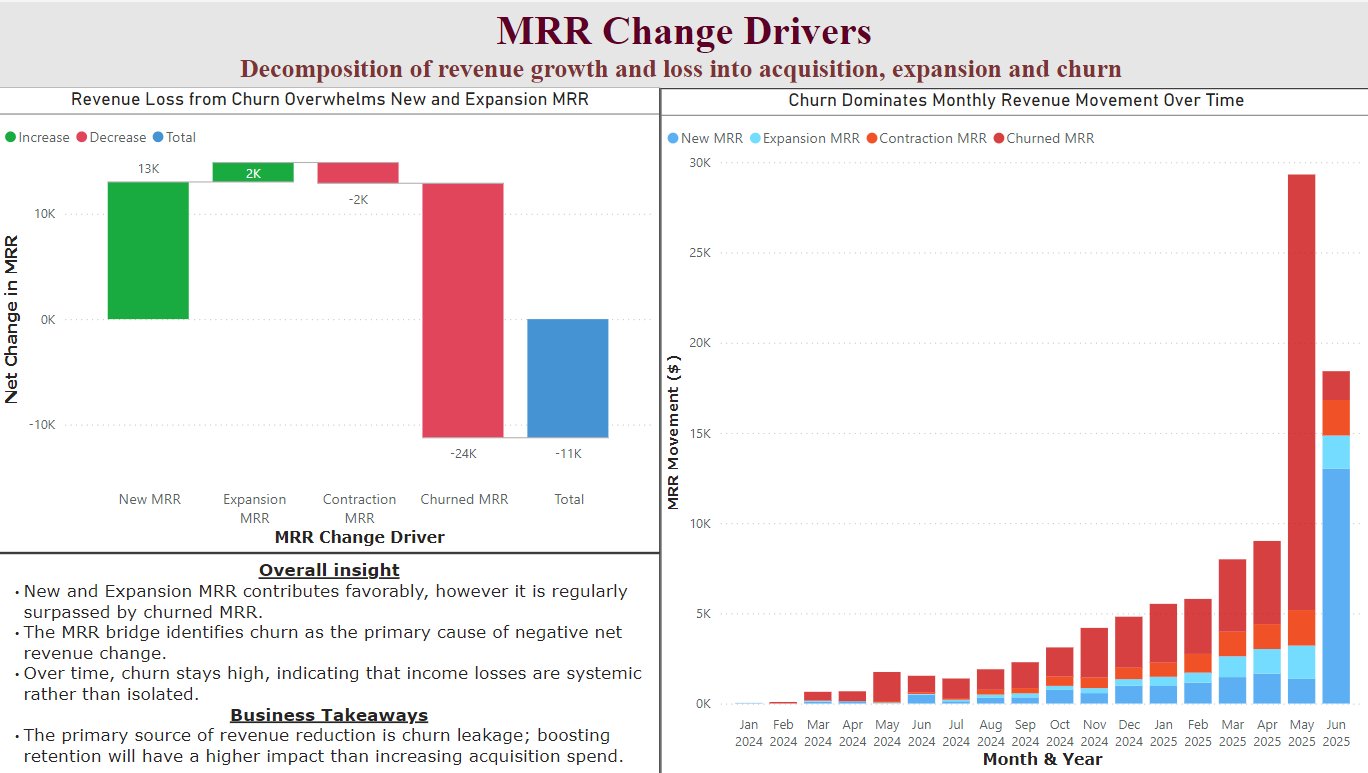

The page's visual inventory and layout, read from the dashboard file:
{"tool":"powerbi","page":{"name":"REVENUE DRIVERS","canvas":[1280,720],"ordinal":1},"visuals":[{"type":"waterfallChart","title":"Revenue Loss from Churn Overwhelms New and Expansion MRR","fields":{"Category":["MRR Movement Types.mrr_movement_type"],"Y":["Date.MRR Change"]},"box":[0,79.5,617.5,434.1],"z":0},{"type":"columnChart","title":"Churn Dominates Monthly Revenue Movement Over Time","fields":{"Category":["Date.Month Year"],"Y":["Date.New MRR","Date.Expansion MRR","Date.Contraction MRR","Date.Churned MRR"]},"box":[617.5,80,662.5,640],"z":1000},{"type":"textbox","box":[0,0,1280,80],"z":2000},{"type":"textbox","box":[0,513.6,617.5,206.7],"z":3000}]}

Visuals, with their boxes in screenshot pixels (x1, y1, x2, y2), scaled from the page's 1280x720 canvas onto the 1368x773 screenshot:
"Revenue Loss from Churn Overwhelms New and Expansion MRR" waterfallChart: x1=0, y1=85, x2=660, y2=551
"Churn Dominates Monthly Revenue Movement Over Time" columnChart: x1=660, y1=86, x2=1367, y2=772
textbox: x1=0, y1=0, x2=1367, y2=86
textbox: x1=0, y1=551, x2=660, y2=772
